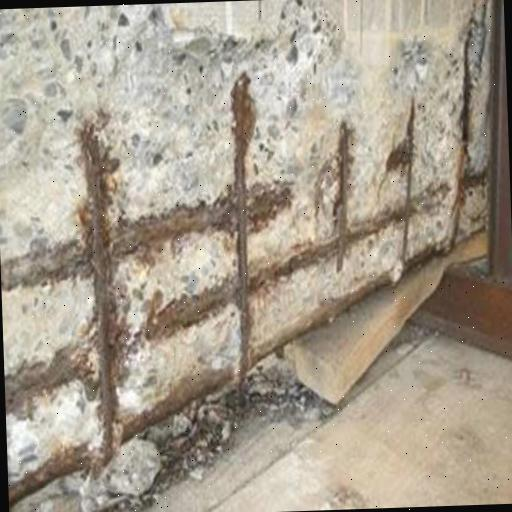spalling: (0, 0, 492, 512)
